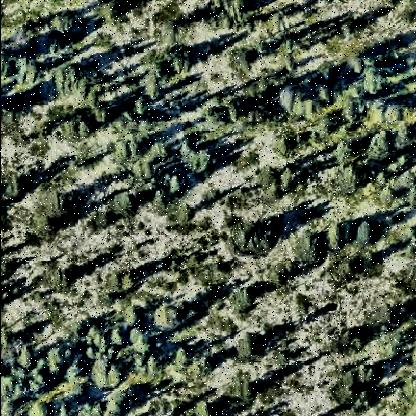tree-top: (275, 78, 320, 122), (232, 220, 276, 262), (173, 344, 210, 386), (57, 60, 93, 102), (341, 373, 377, 413), (90, 357, 126, 393), (328, 326, 368, 356), (365, 130, 397, 167), (295, 235, 329, 269), (227, 284, 261, 318), (331, 166, 366, 199), (234, 332, 267, 365), (152, 302, 184, 334), (273, 166, 303, 200), (324, 219, 354, 253), (232, 374, 262, 408), (190, 146, 221, 178), (43, 345, 73, 378), (364, 60, 390, 98), (70, 114, 100, 146), (32, 215, 62, 246), (46, 267, 76, 298), (227, 46, 257, 74), (112, 191, 140, 219), (221, 1, 248, 30), (353, 218, 379, 248), (83, 324, 107, 356), (16, 55, 40, 87), (98, 1, 128, 26), (338, 257, 365, 284), (122, 302, 148, 330), (47, 14, 75, 40), (166, 49, 193, 75), (14, 345, 37, 375), (338, 100, 362, 128), (1, 99, 21, 131), (7, 175, 29, 202), (195, 397, 225, 416), (165, 172, 186, 198), (137, 78, 163, 99), (120, 270, 142, 292)
